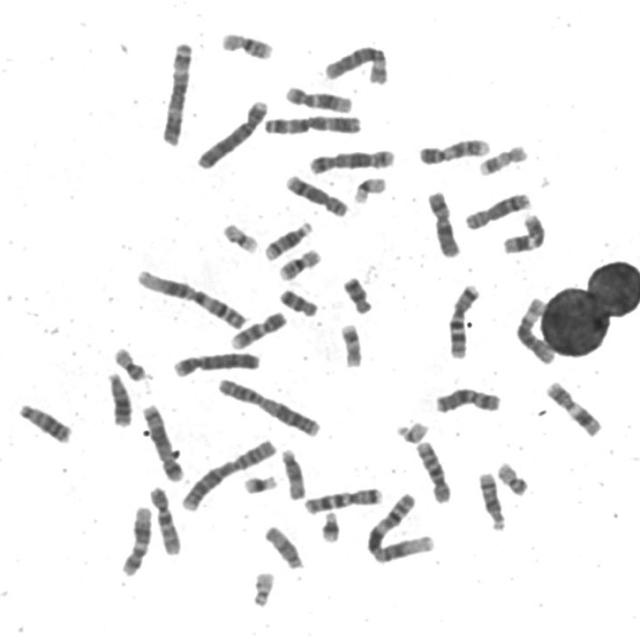A1: (132, 262, 252, 330), (362, 486, 440, 564)
A2: (177, 434, 280, 512), (213, 371, 325, 438)
A3: (157, 36, 196, 147), (260, 109, 366, 136)
B4: (192, 93, 272, 170), (169, 346, 263, 378)
B5: (139, 398, 187, 483), (306, 144, 398, 176)
C10: (412, 434, 456, 506), (145, 480, 185, 557)
C11: (542, 375, 606, 439), (499, 208, 549, 256)
C12: (116, 501, 154, 577), (282, 80, 356, 114)
C6: (512, 293, 559, 364), (321, 40, 392, 86)
C7: (444, 278, 484, 360), (300, 481, 386, 516)
C8: (282, 168, 352, 218), (461, 187, 535, 230)
C9: (227, 306, 289, 351), (415, 132, 493, 166)
D13: (14, 396, 75, 445), (103, 366, 135, 428)
D14: (261, 216, 316, 262), (475, 466, 509, 532)
D15: (261, 520, 307, 570), (277, 443, 309, 502)
E16: (217, 26, 277, 61), (275, 242, 324, 282)
E17: (475, 139, 530, 177), (336, 319, 366, 369)
E18: (339, 270, 376, 316), (276, 283, 322, 318)
F19: (219, 217, 262, 255), (350, 171, 390, 205)
F20: (110, 341, 150, 382), (494, 456, 532, 497)
G21: (239, 469, 281, 496), (317, 505, 343, 544)
G22: (248, 566, 278, 608), (392, 415, 432, 445)
X: (424, 185, 464, 259), (431, 382, 505, 414)
